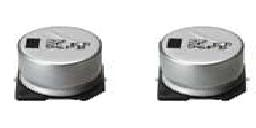Electrolytic-Capacitor: (15, 24, 114, 103), (158, 24, 249, 105)
